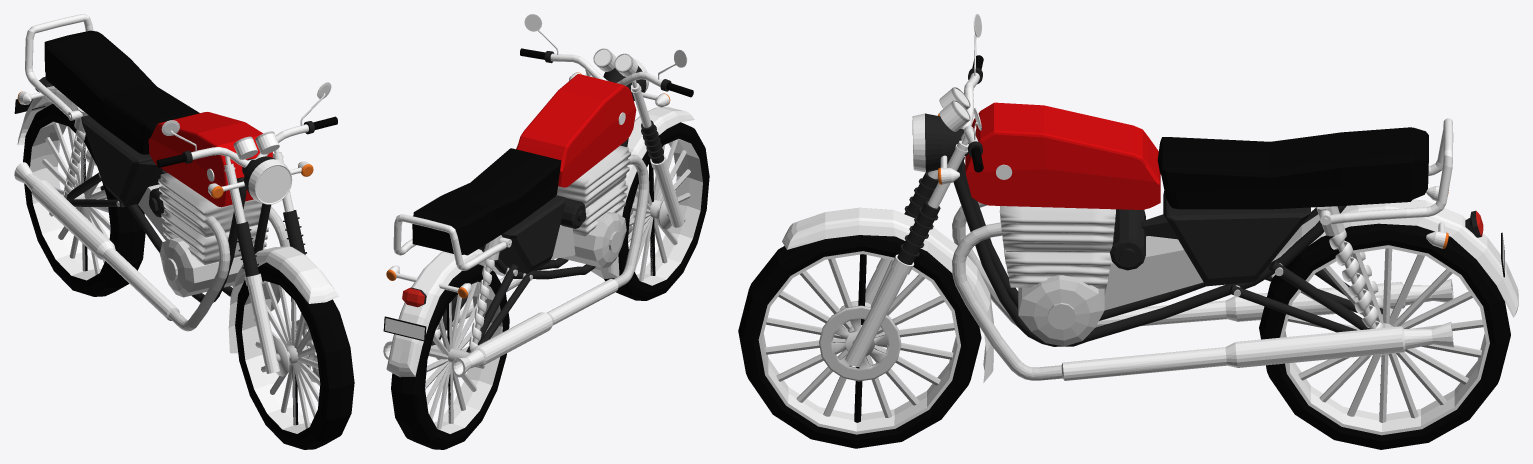
The model's file is motor1.glb.
The picture shows the model from 3 angles, left to right: view 1: azimuth 30°, elevation 25°; view 2: azimuth 150°, elevation 25°; view 3: azimuth 270°, elevation 25°; orthographic projection. The views are drawn at different scales.
Parts seen in each view (by area): view 1: Front_wheel, back_wheel, seat, exhaust, tank, engine_1, front_bumper, engine_2, Front_water, engine_4, Headlight, frame (+13 smaller); view 2: back_wheel, seat, Front_wheel, tank, exhaust, back_water, engine_1, engine_2, engine_4, front_bumper, Front_water, fender_back (+16 smaller); view 3: back_wheel, Front_wheel, seat, tank, exhaust, engine_2, engine_1, frame, Front_water, front_bumper, engine_4, back_water (+10 smaller).
Boxes of the visible parts, bbox=[...] form: Front_wheel: bbox=[235, 262, 354, 449]; back_wheel: bbox=[23, 103, 145, 296]; seat: bbox=[44, 30, 199, 154]; exhaust: bbox=[14, 149, 289, 331]; tank: bbox=[148, 112, 272, 207]; engine_1: bbox=[158, 173, 271, 264]; front_bumper: bbox=[224, 148, 316, 373]; engine_2: bbox=[81, 115, 167, 206]; Front_water: bbox=[228, 246, 338, 353]; engine_4: bbox=[159, 237, 265, 297]; Headlight: bbox=[242, 156, 292, 204]; frame: bbox=[127, 177, 270, 302]; back_wheel: bbox=[391, 264, 509, 449]; seat: bbox=[412, 148, 561, 255]; Front_wheel: bbox=[604, 122, 709, 300]; tank: bbox=[516, 74, 636, 187]; exhaust: bbox=[383, 154, 649, 377]; back_water: bbox=[386, 249, 505, 377]; engine_1: bbox=[556, 145, 630, 236]; engine_2: bbox=[479, 195, 565, 273]; engine_4: bbox=[561, 212, 626, 267]; front_bumper: bbox=[585, 69, 684, 227]; Front_water: bbox=[591, 107, 694, 278]; fender_back: bbox=[393, 214, 506, 270]; back_wheel: bbox=[1259, 223, 1510, 449]; Front_wheel: bbox=[738, 235, 981, 448]; seat: bbox=[1157, 127, 1428, 209]; tank: bbox=[965, 102, 1160, 209]; exhaust: bbox=[952, 202, 1453, 380]; engine_2: bbox=[1141, 191, 1310, 286]; engine_1: bbox=[999, 206, 1115, 288]; frame: bbox=[953, 156, 1346, 346]; Front_water: bbox=[782, 207, 993, 382]; front_bumper: bbox=[845, 127, 968, 366]; engine_4: bbox=[1018, 275, 1104, 346]; back_water: bbox=[1271, 199, 1518, 317].
Bounding box in the file's own units: 2.43 × 4.01 × 7.39.
